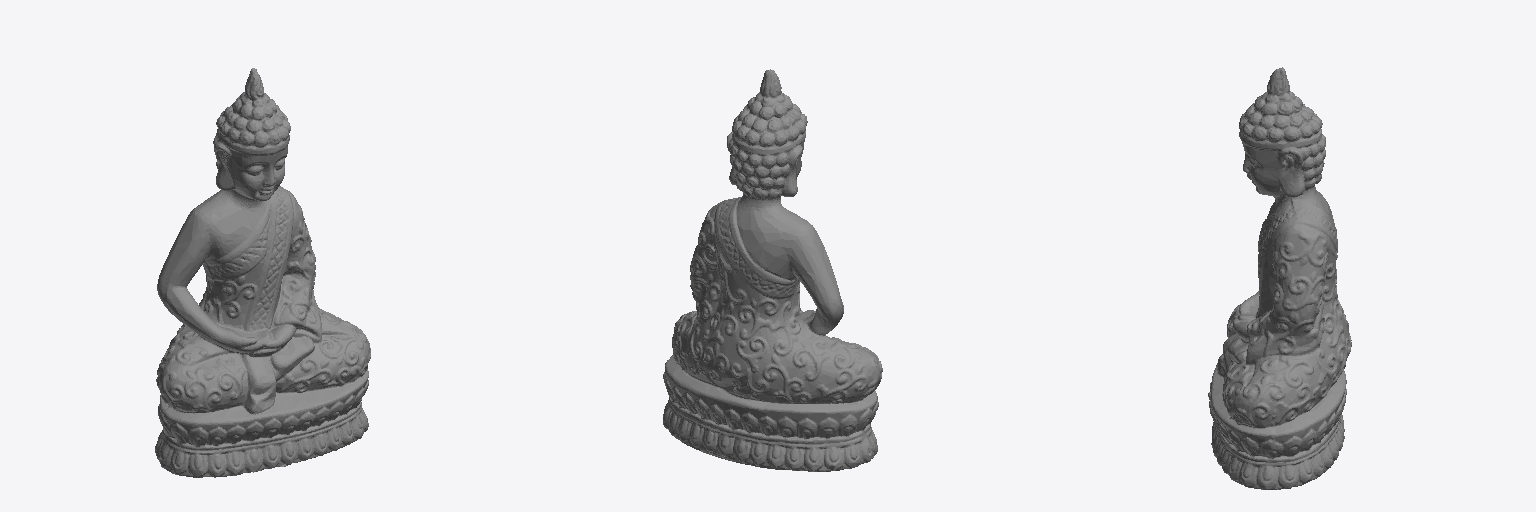
The model's file is buddha.obj.
3 renders of one model, left to right at view 1: azimuth 30°, elevation 25°; view 2: azimuth 150°, elevation 25°; view 3: azimuth 270°, elevation 25°, orthographic.
Parts seen in each view (by area): view 1: buddha; view 2: buddha; view 3: buddha.
Boxes of the visible parts, x1,y1,x2,y2 form: buddha: [155, 68, 370, 477]; buddha: [663, 69, 882, 471]; buddha: [1208, 67, 1351, 489].
Bounding box in the file's own units: 28.97 × 50.69 × 17.58.